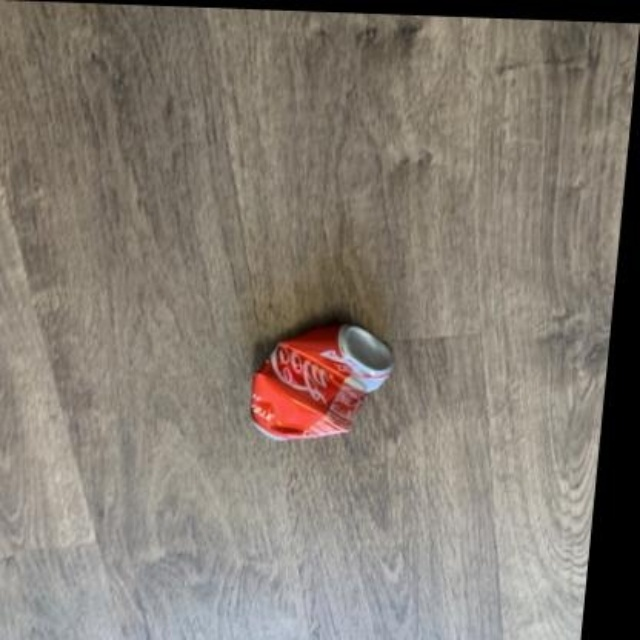trash: (251, 323, 392, 438)
